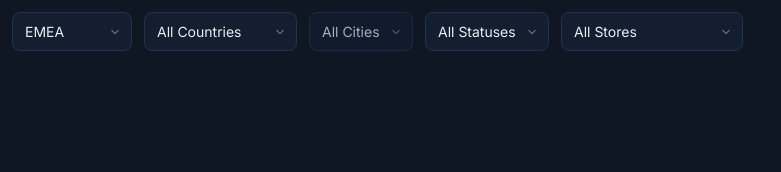
Test: Filter Data Consistency Tests › Requirement 2.1 & 3.1: Cascading filter behavior › should enable city dropdown when country is selected
Select "United Kingdom" in the 2nd dropdown showing "All Countries" at (220, 32), box left=144, top=12, right=297, bottom=51
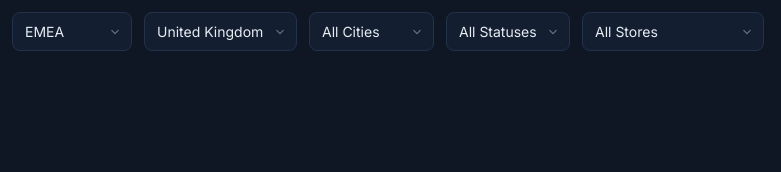
Expected: the 3rd dropdown showing "All Cities" is enabled, left=309, top=12, right=434, bottom=51
